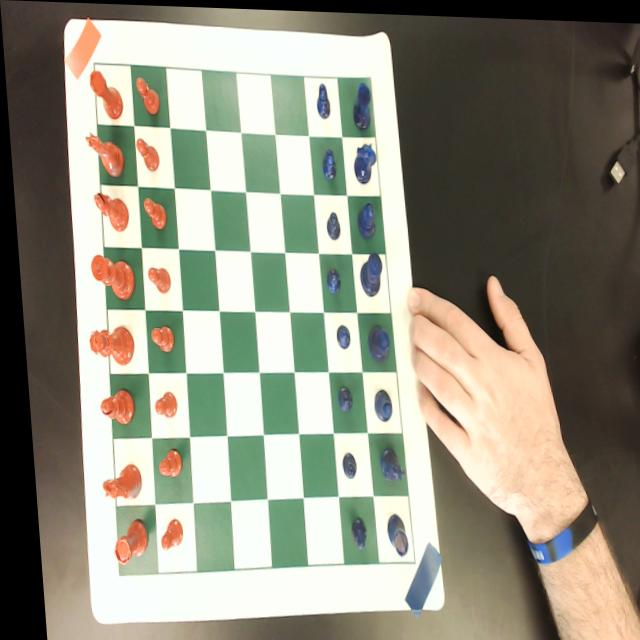B: (353, 200, 374, 236), (367, 385, 387, 421)
K: (354, 247, 381, 296)
N: (350, 137, 377, 183), (372, 445, 399, 480)
P: (342, 514, 360, 549), (314, 80, 330, 118), (321, 208, 339, 238), (319, 146, 335, 178), (321, 264, 338, 292), (335, 449, 351, 478), (332, 384, 348, 412), (330, 321, 346, 347)
Q: (362, 322, 386, 361)
R: (348, 78, 373, 127), (379, 510, 401, 553)
b: (92, 387, 130, 430), (91, 191, 127, 230)
cb: (93, 63, 407, 575)
k: (87, 254, 131, 303)
n: (82, 130, 124, 178), (94, 460, 137, 505)
p: (134, 74, 160, 115), (134, 136, 158, 172), (150, 446, 176, 479), (139, 195, 164, 229), (151, 516, 175, 551), (142, 265, 168, 293), (147, 389, 173, 417), (145, 324, 170, 353)
q: (83, 324, 131, 367)
r: (103, 517, 142, 567), (87, 69, 122, 120)
